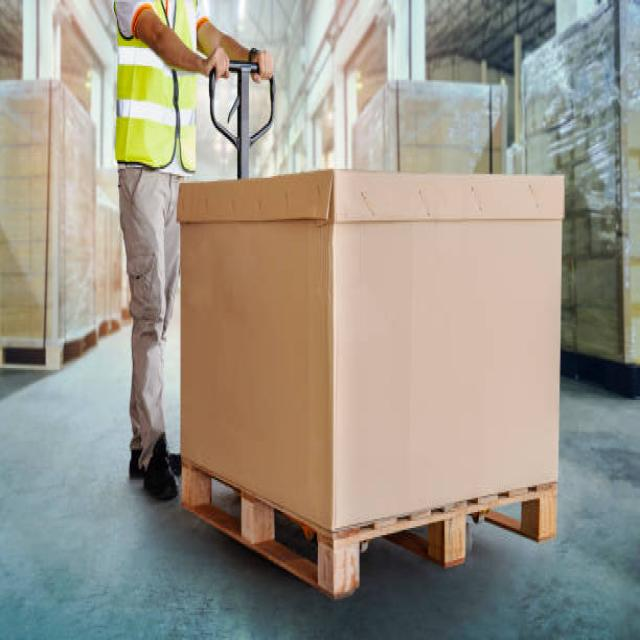Wooden-Pallets: (180, 452, 559, 604)
